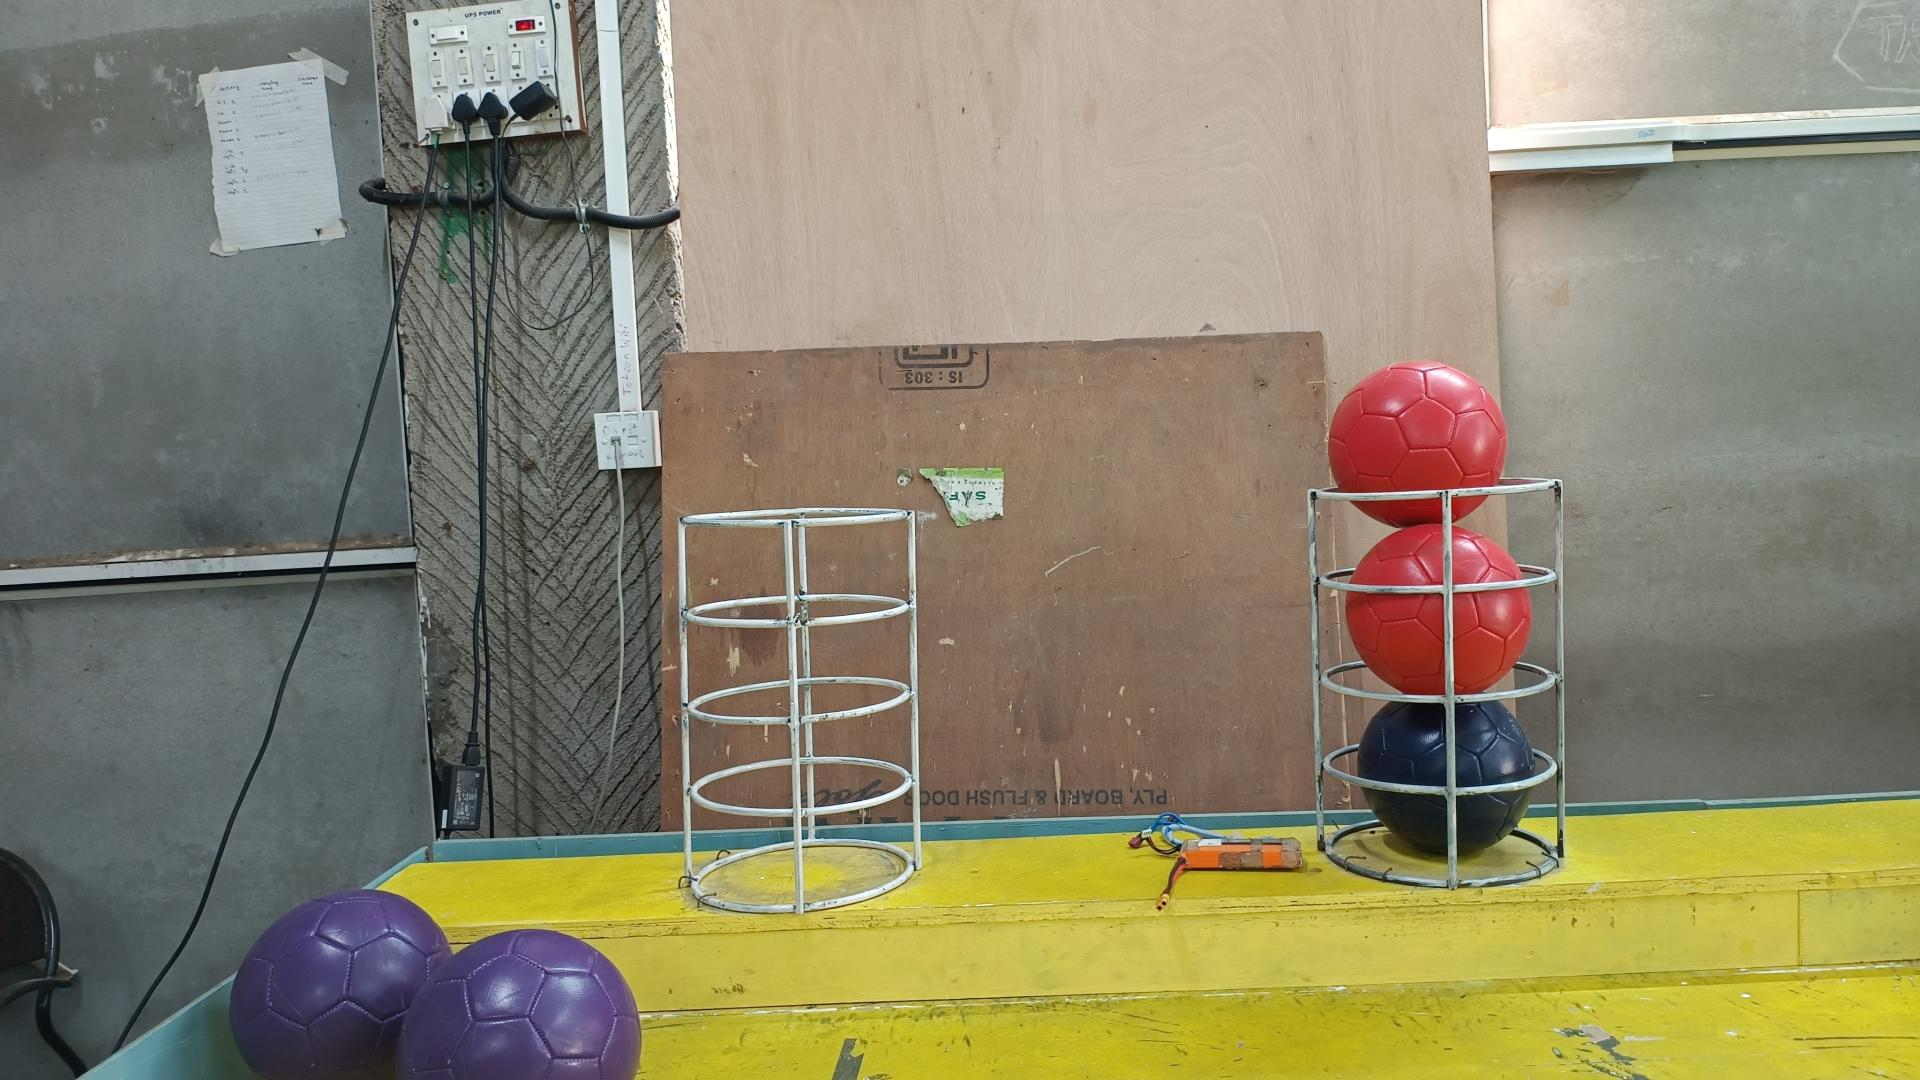dhoka: (1354, 702, 1538, 855)
laale: (1346, 525, 1530, 694), (1328, 360, 1507, 529)
